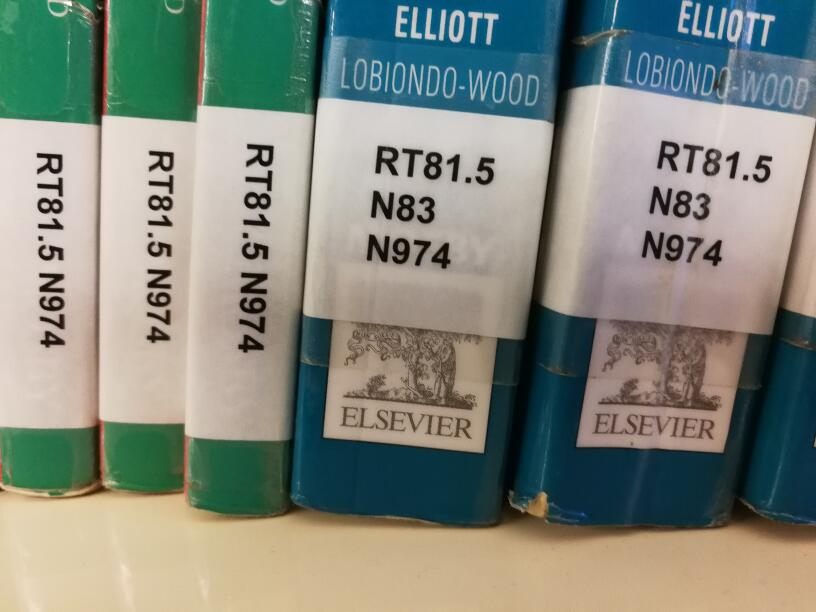booklabel: (638, 136, 776, 268), (364, 142, 497, 271), (235, 141, 276, 356), (32, 150, 67, 351), (143, 147, 175, 345)
